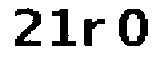0: (117, 5, 151, 52)
1: (48, 7, 78, 51)
2: (11, 4, 44, 53)
r: (82, 16, 108, 50)
